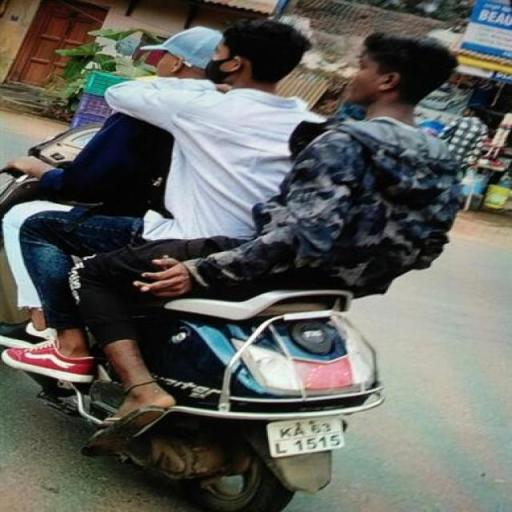tripple riding: (4, 15, 484, 293)
